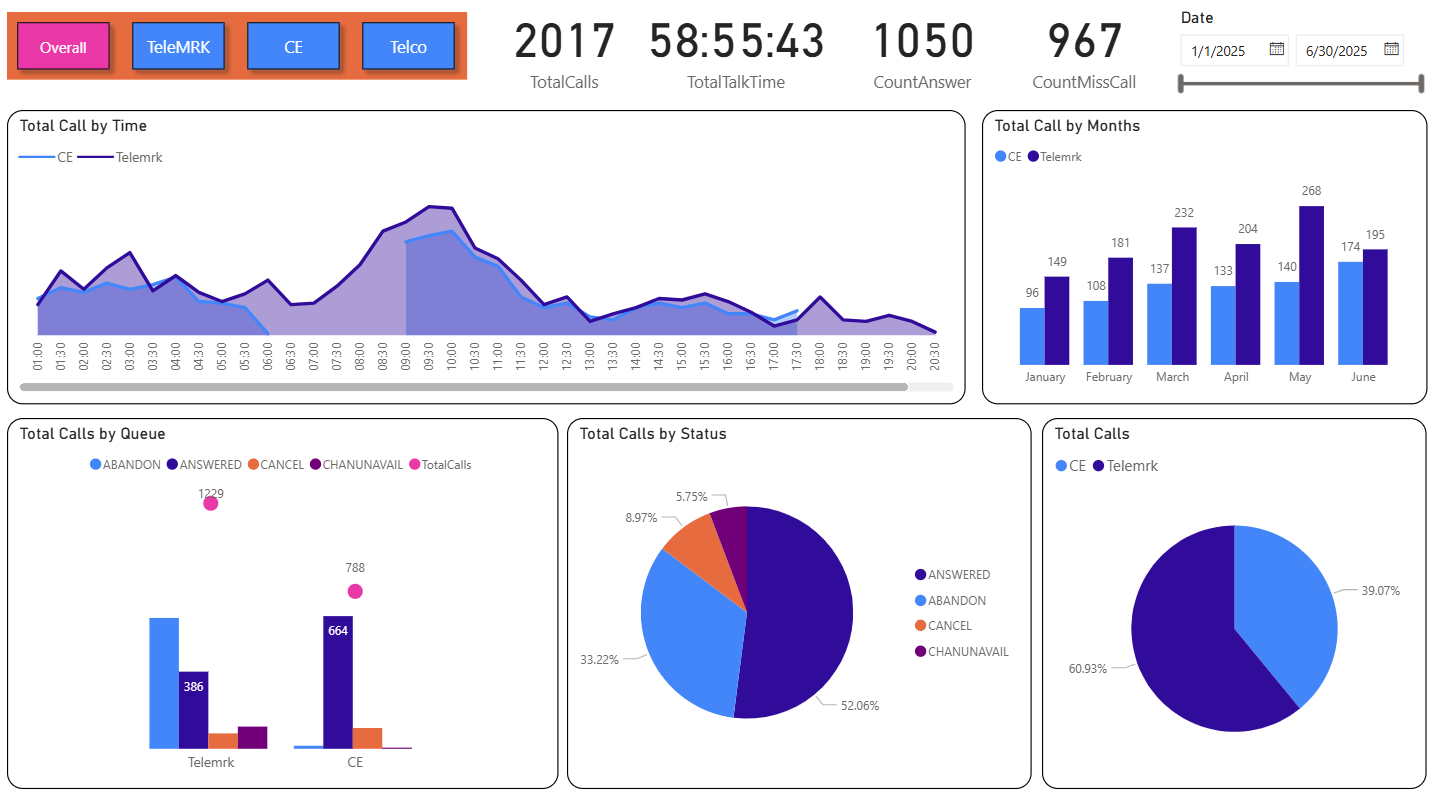

What the dashboard file says about the page in this screenshot:
{"tool":"powerbi","page":{"name":"Overview","canvas":[1280,720],"ordinal":0},"visuals":[{"type":"card","fields":{"Values":["Hotline.TotalCalls"]},"box":[446,3.5,117.5,86.9],"z":0,"group":"g1"},{"type":"slicer","fields":{"Values":["Hotline.Date"]},"box":[1038.3,8.9,242.1,94.9],"z":0},{"type":"clusteredColumnChart","title":"Total Call by Months","fields":{"Category":["Hotline.Date.Variation.Date Hierarchy.Month"],"Series":["Hotline.Queue"],"Y":["Hotline.TotalCalls"]},"box":[875.2,103.7,394.6,260.7],"z":1000},{"type":"card","fields":{"Values":["Hotline.TotalTalkTimeMins_hours"]},"box":[563.9,3.5,186,86.9],"z":2000,"group":"g1"},{"type":"areaChart","title":"Total Call by Time","fields":{"Category":["Hotline.TimeGroup"],"Y":["Hotline.TotalCalls"],"Series":["Hotline.Queue"]},"box":[10.6,103.7,850.3,260.7],"z":2000},{"type":"card","fields":{"Values":["Hotline.CountAnswer"]},"box":[749.9,3.5,144.2,86.9],"z":3000,"group":"g1"},{"type":"pieChart","title":"Total Calls ","fields":{"Y":["Hotline.TotalCalls"],"Category":["Hotline.Queue"]},"box":[928.4,376.8,341.4,329],"z":3000},{"type":"group","id":"g1","title":"Group 1","box":[446,3.5,592.3,86.9],"z":4000},{"type":"card","fields":{"Values":["Hotline.CountMissCall"]},"box":[894.1,3.5,144.2,86.9],"z":4000,"group":"g1"},{"type":"lineClusteredColumnComboChart","title":"Total Calls by Queue","fields":{"Category":["Hotline.Queue"],"Series":["Hotline.Status"],"Y":["Hotline.TotalCalls"],"Y2":["Hotline.TotalCalls"]},"box":[10.6,376.8,489.5,329],"z":5000},{"type":"pageNavigator","box":[10.6,16.8,407.9,60.3],"z":6000},{"type":"pieChart","title":"Total Calls by Status ","fields":{"Y":["Hotline.TotalCalls"],"Category":["Hotline.Status"]},"box":[507.2,376.8,412.3,329],"z":7000}]}

Visuals, with their boxes in screenshot pixels (x1, y1, x2, y2), scaled from the page's 1280x720 canvas onto the 1437x798 screenshot:
card - Hotline.TotalCalls: box=[501, 4, 633, 100]
slicer - Hotline.Date: box=[1166, 10, 1436, 115]
"Total Call by Months" clusteredColumnChart: box=[983, 115, 1426, 404]
card - Hotline.TotalTalkTimeMins_hours: box=[633, 4, 842, 100]
"Total Call by Time" areaChart: box=[12, 115, 966, 404]
card - Hotline.CountAnswer: box=[842, 4, 1004, 100]
"Total Calls " pieChart: box=[1042, 418, 1426, 782]
"Group 1" group: box=[501, 4, 1166, 100]
card - Hotline.CountMissCall: box=[1004, 4, 1166, 100]
"Total Calls by Queue" lineClusteredColumnComboChart: box=[12, 418, 561, 782]
pageNavigator: box=[12, 19, 470, 85]
"Total Calls by Status " pieChart: box=[569, 418, 1032, 782]
